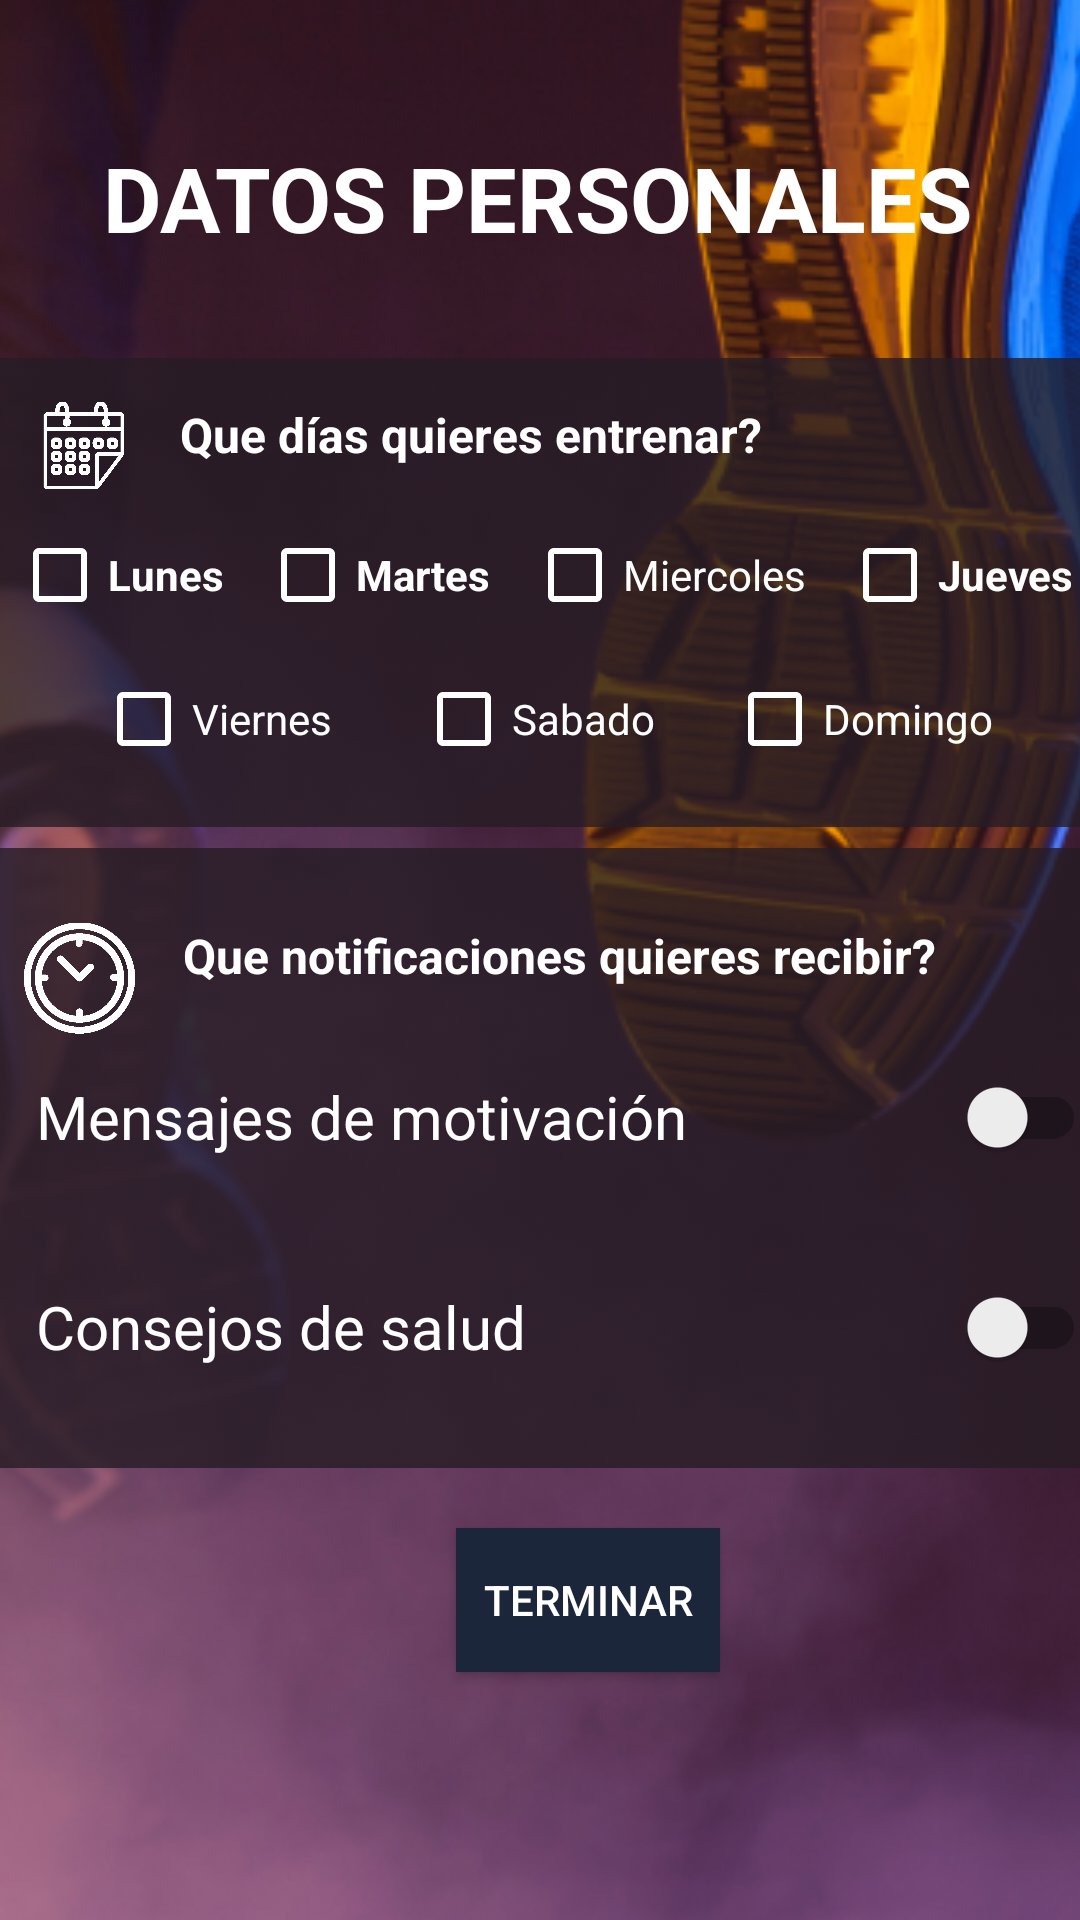

Named icons in this screenshot (1080px x 1920px) and their centers, (x=x, y=y):
calendario: (x=83, y=445)
hora: (x=79, y=978)
